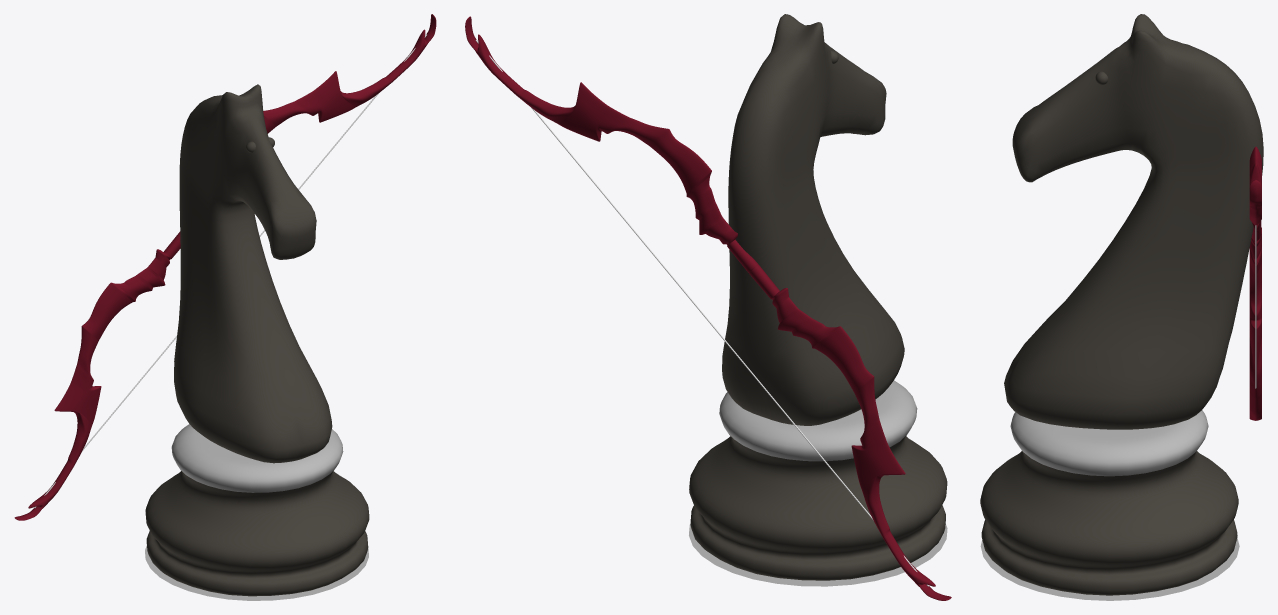
Rendered from Cavalo2.fbx.
3 renders of one model, left to right at view 1: azimuth 30°, elevation 25°; view 2: azimuth 150°, elevation 25°; view 3: azimuth 270°, elevation 25°, orthographic. The views are drawn at different scales.
Visible parts, largest first — view 1: Springer.001, Springerfod.001, Cube.004, Bonde-m.031, Cube.005; view 2: Springer.001, Springerfod.001, Cube.004, Bonde-m.031, Cube.005; view 3: Springer.001, Springerfod.001, Cube.004, Bonde-m.031.
Part boxes in pixels (bbox=[...]): Springer.001: bbox=[174, 84, 332, 463]; Springerfod.001: bbox=[145, 424, 369, 596]; Cube.004: bbox=[14, 14, 436, 520]; Bonde-m.031: bbox=[145, 545, 368, 600]; Cube.005: bbox=[34, 34, 426, 507]; Springer.001: bbox=[722, 14, 904, 425]; Springerfod.001: bbox=[689, 380, 947, 580]; Cube.004: bbox=[465, 16, 951, 600]; Bonde-m.031: bbox=[689, 523, 947, 586]; Cube.005: bbox=[475, 40, 928, 586]; Springer.001: bbox=[1004, 14, 1263, 429]; Springerfod.001: bbox=[980, 410, 1238, 595]; Cube.004: bbox=[1249, 146, 1261, 420]; Bonde-m.031: bbox=[980, 537, 1239, 600].
Size of the model in its own units: 76.97 by 79.6 by 39.05.
